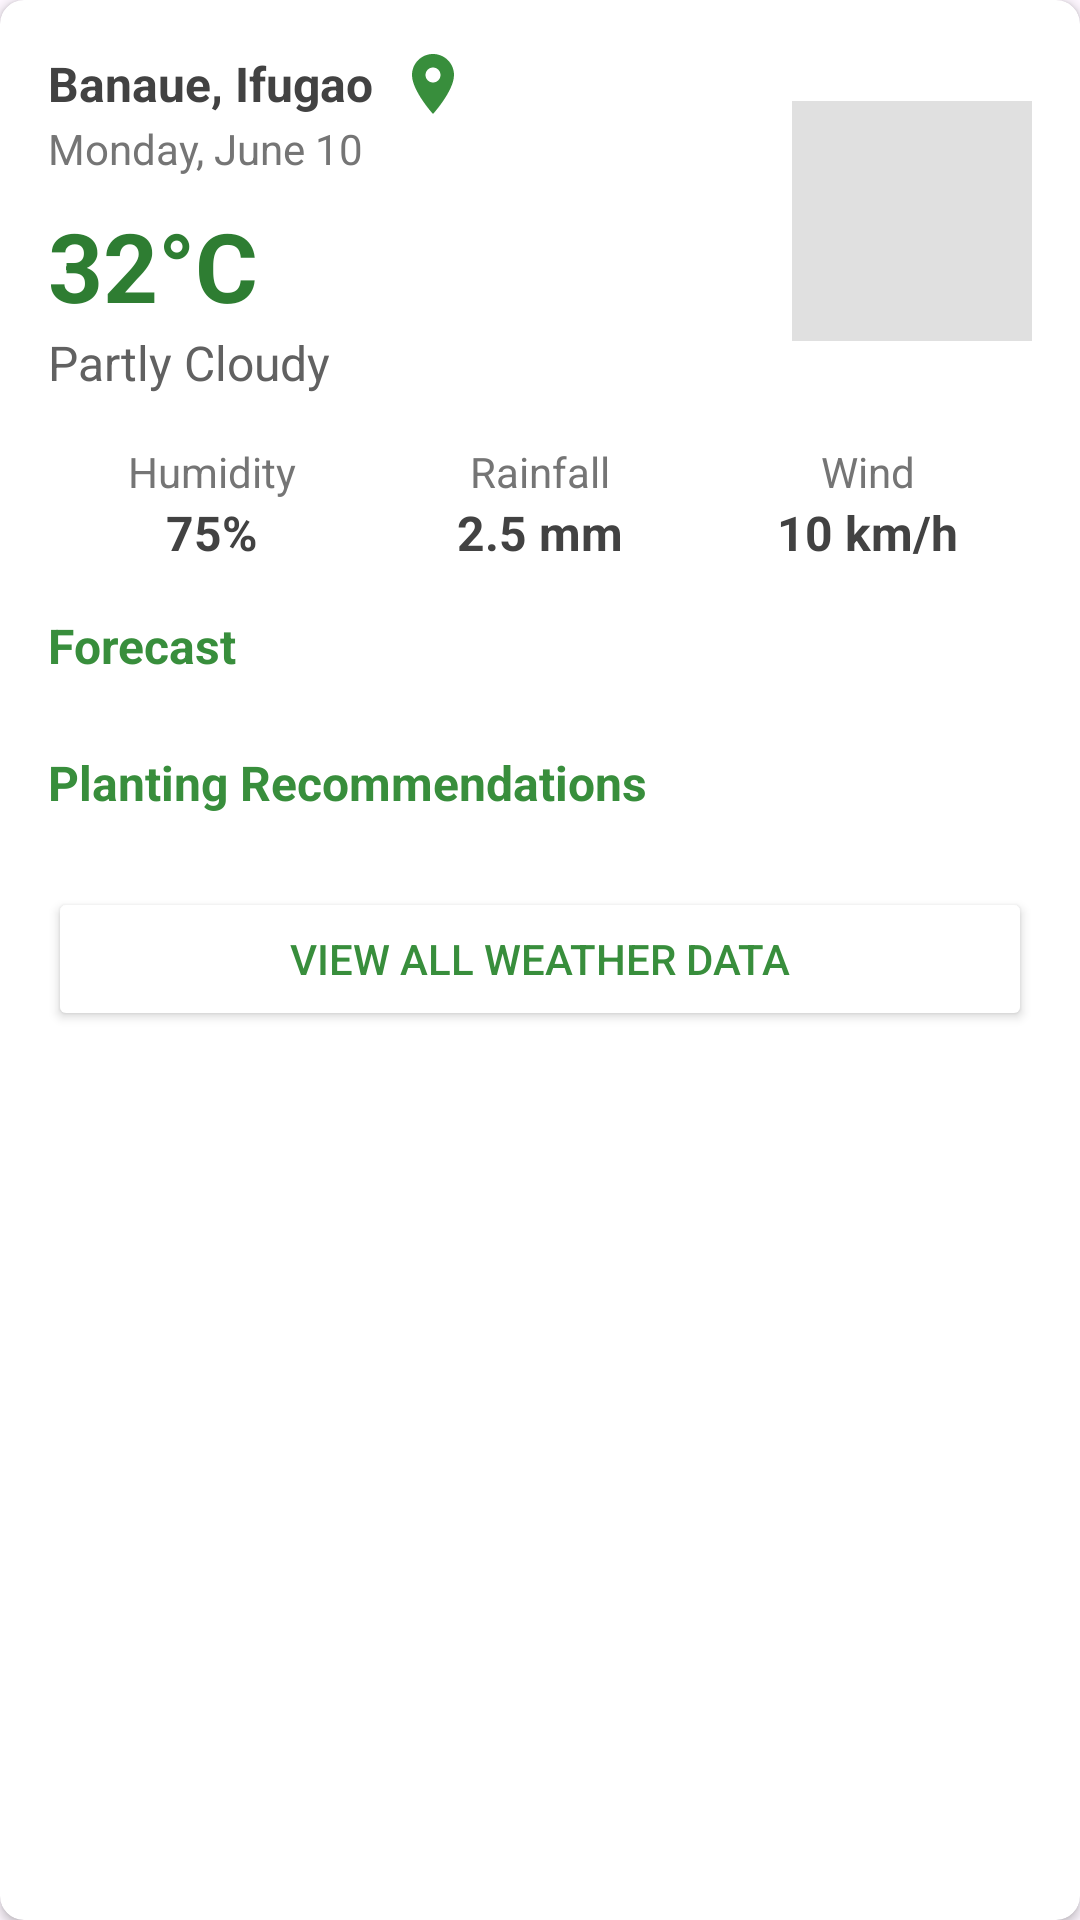

Icon click points for this 1080px x 1920px phone screenshot, format (x=x, y=y):
Use Current Location: (x=433, y=84)
